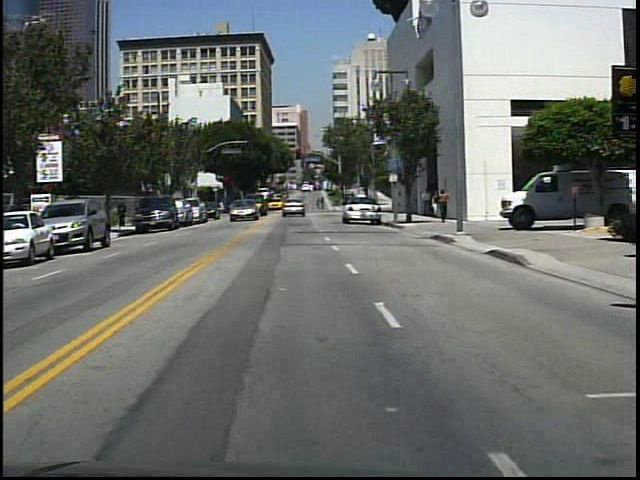person: (436, 187, 449, 223), (115, 198, 130, 229), (420, 186, 433, 218), (215, 197, 229, 219), (432, 189, 440, 219)
